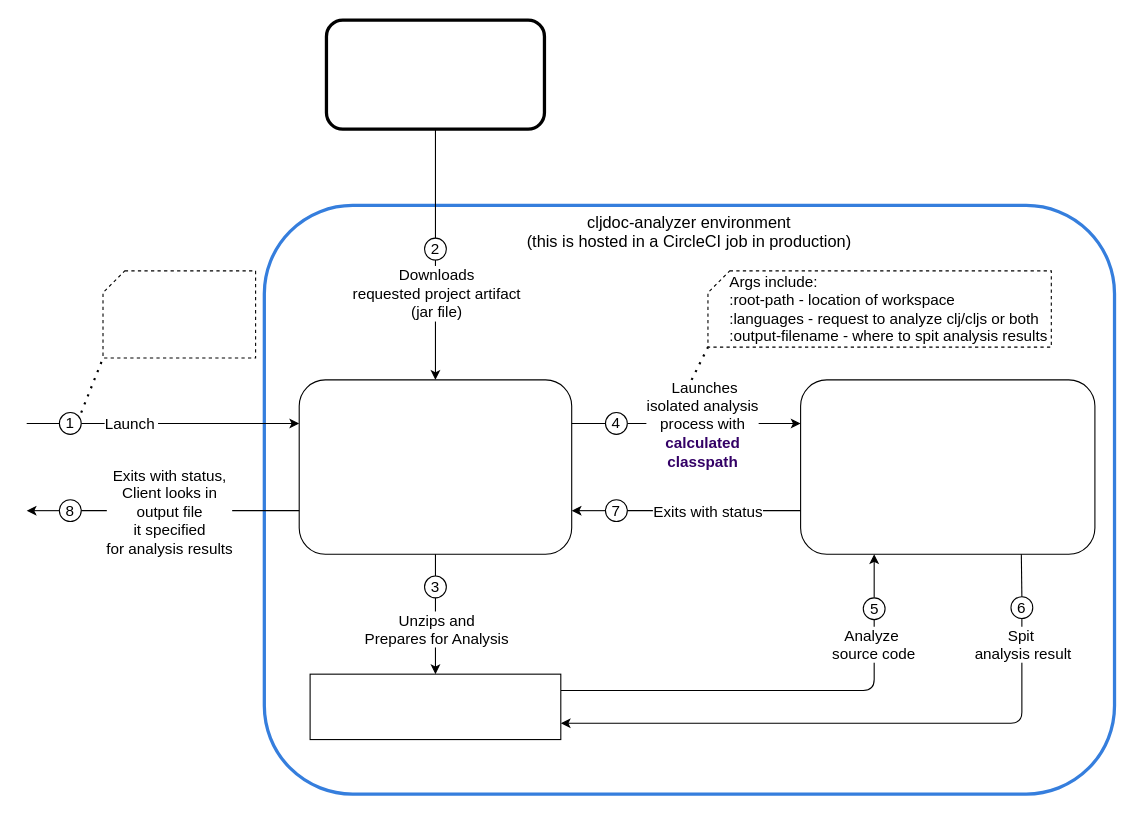
Some shapes in this 1135 by 814 pixel diagram are drawn without their labels. Each missing label, with the centre of its shape:
Args include: :project :version :jarpath :pompath :extra-repos :output-filename: the point at 179,314
Collect Metadata cljdoc-analyzer. metagetta.main process: the point at 947,466
Prepare for Analysis cljdoc-analyzer. cljdoc-main process: the point at 435,466
Remote Server (typically clojars): the point at 435,74
workspace: the point at 435,706
